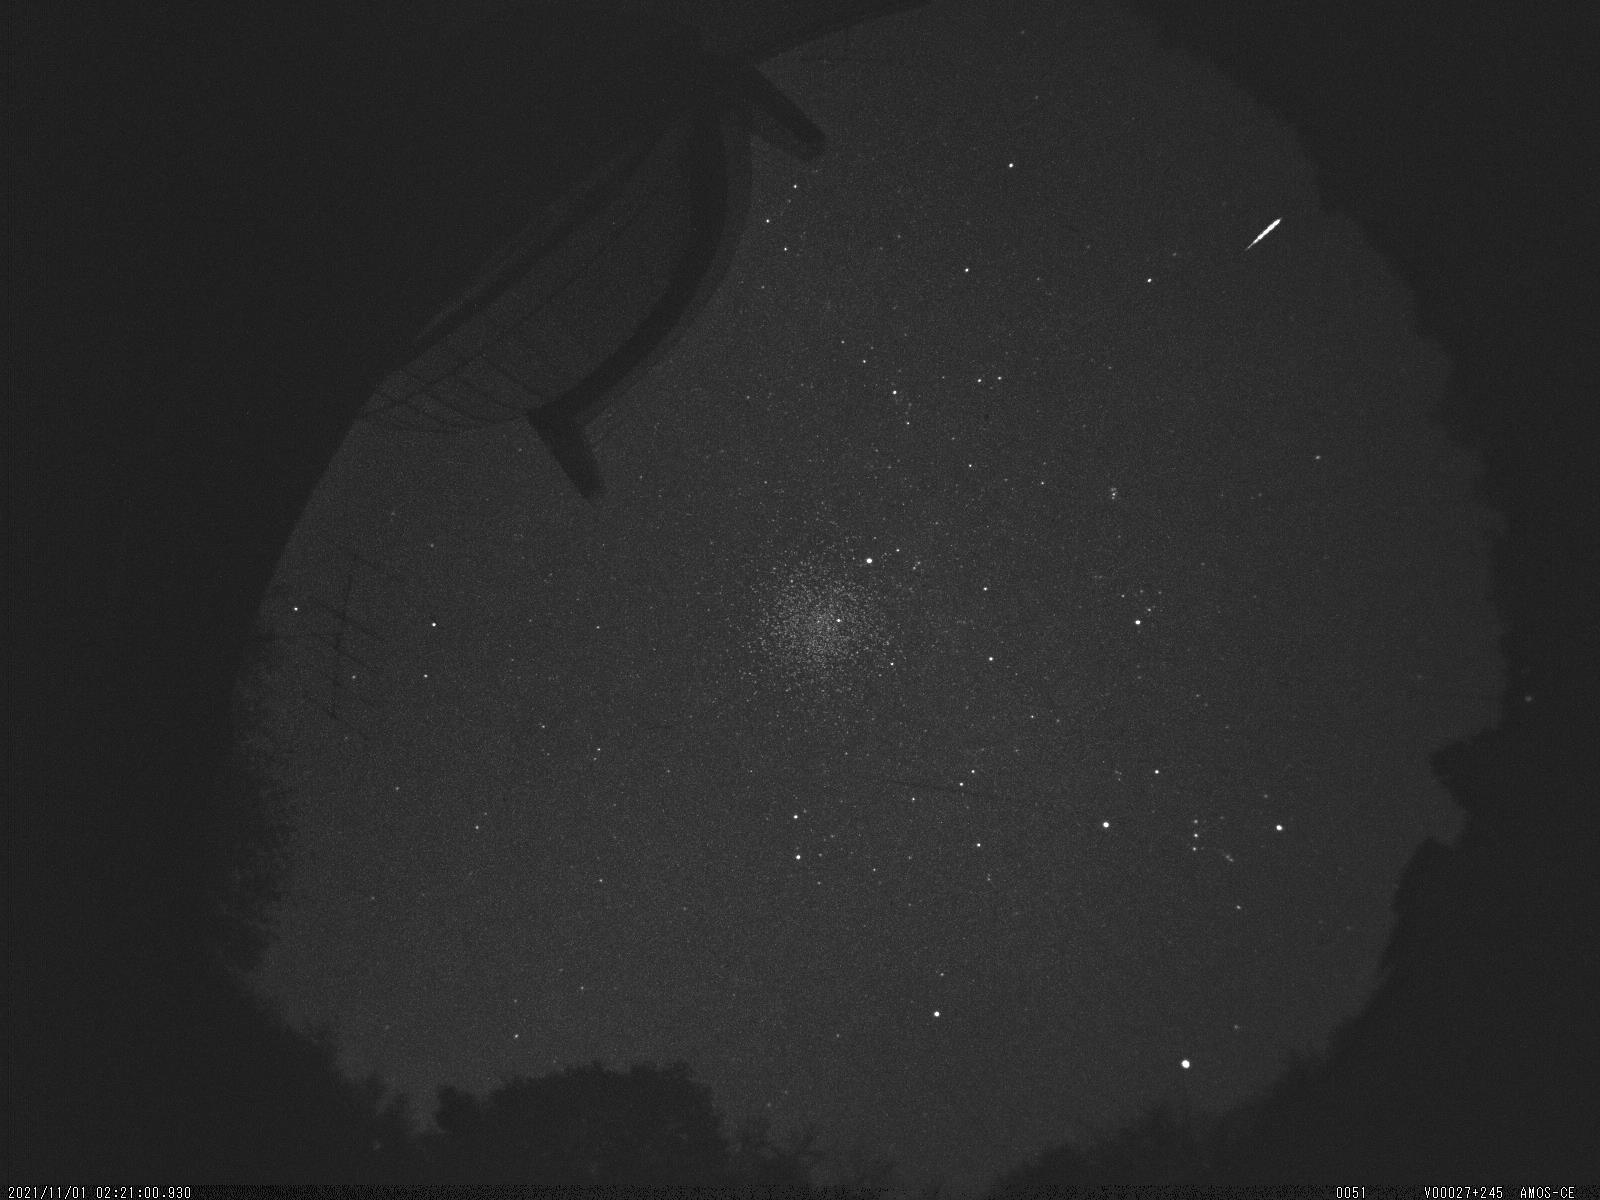Meteor: (1230, 205, 1290, 263)
